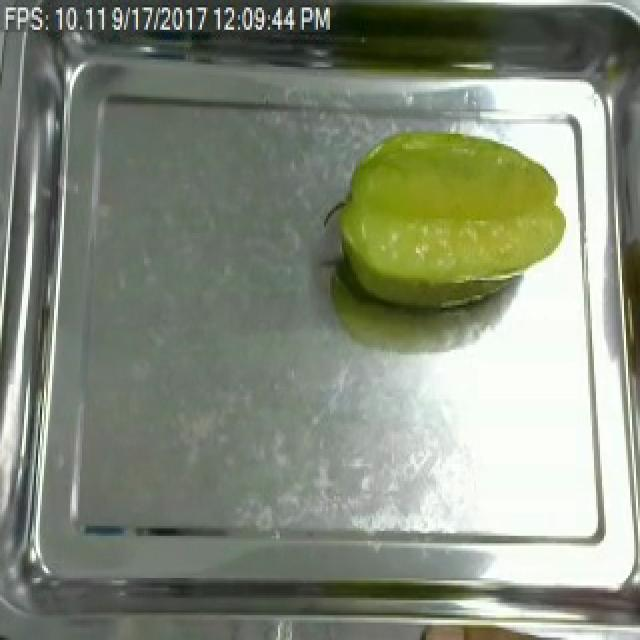fruit: (326, 121, 574, 298)
